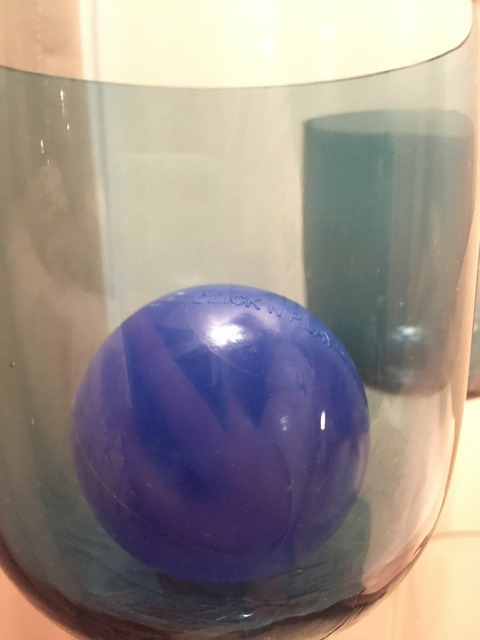Ball: (72, 282, 371, 584)
